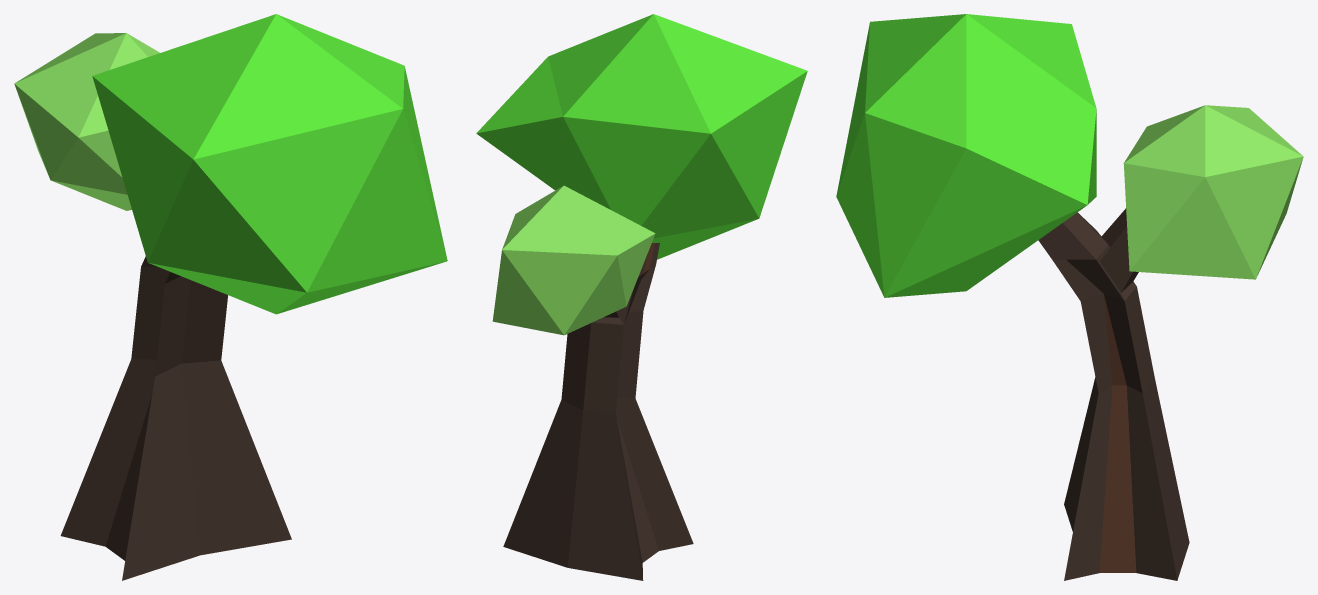
Rendered from Tree_1.fbx.
The picture shows the model from 3 angles, left to right: view 1: azimuth 30°, elevation 25°; view 2: azimuth 150°, elevation 25°; view 3: azimuth 270°, elevation 25°; orthographic projection. The views are drawn at different scales.
Parts seen in each view (by area): view 1: Icosphere, Cube, Icosphere.001; view 2: Icosphere, Cube, Icosphere.001; view 3: Icosphere, Cube, Icosphere.001.
Part boxes in pixels (box(x1,y1,x2,y2)): Icosphere: box(92, 14, 447, 314); Cube: box(60, 256, 291, 580); Icosphere.001: box(14, 33, 159, 210); Icosphere: box(476, 14, 807, 259); Cube: box(503, 243, 693, 580); Icosphere.001: box(492, 185, 655, 335); Icosphere: box(836, 14, 1096, 297); Cube: box(1038, 208, 1189, 580); Icosphere.001: box(1123, 105, 1303, 279).
Bounding box in the file's own units: 335 × 653 × 516.
